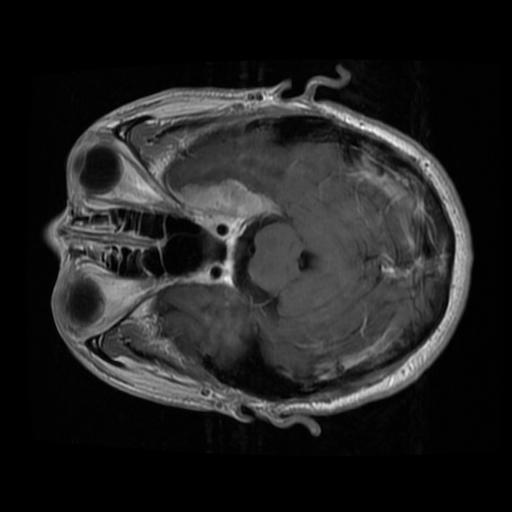meningioma: (175, 178, 267, 219)
